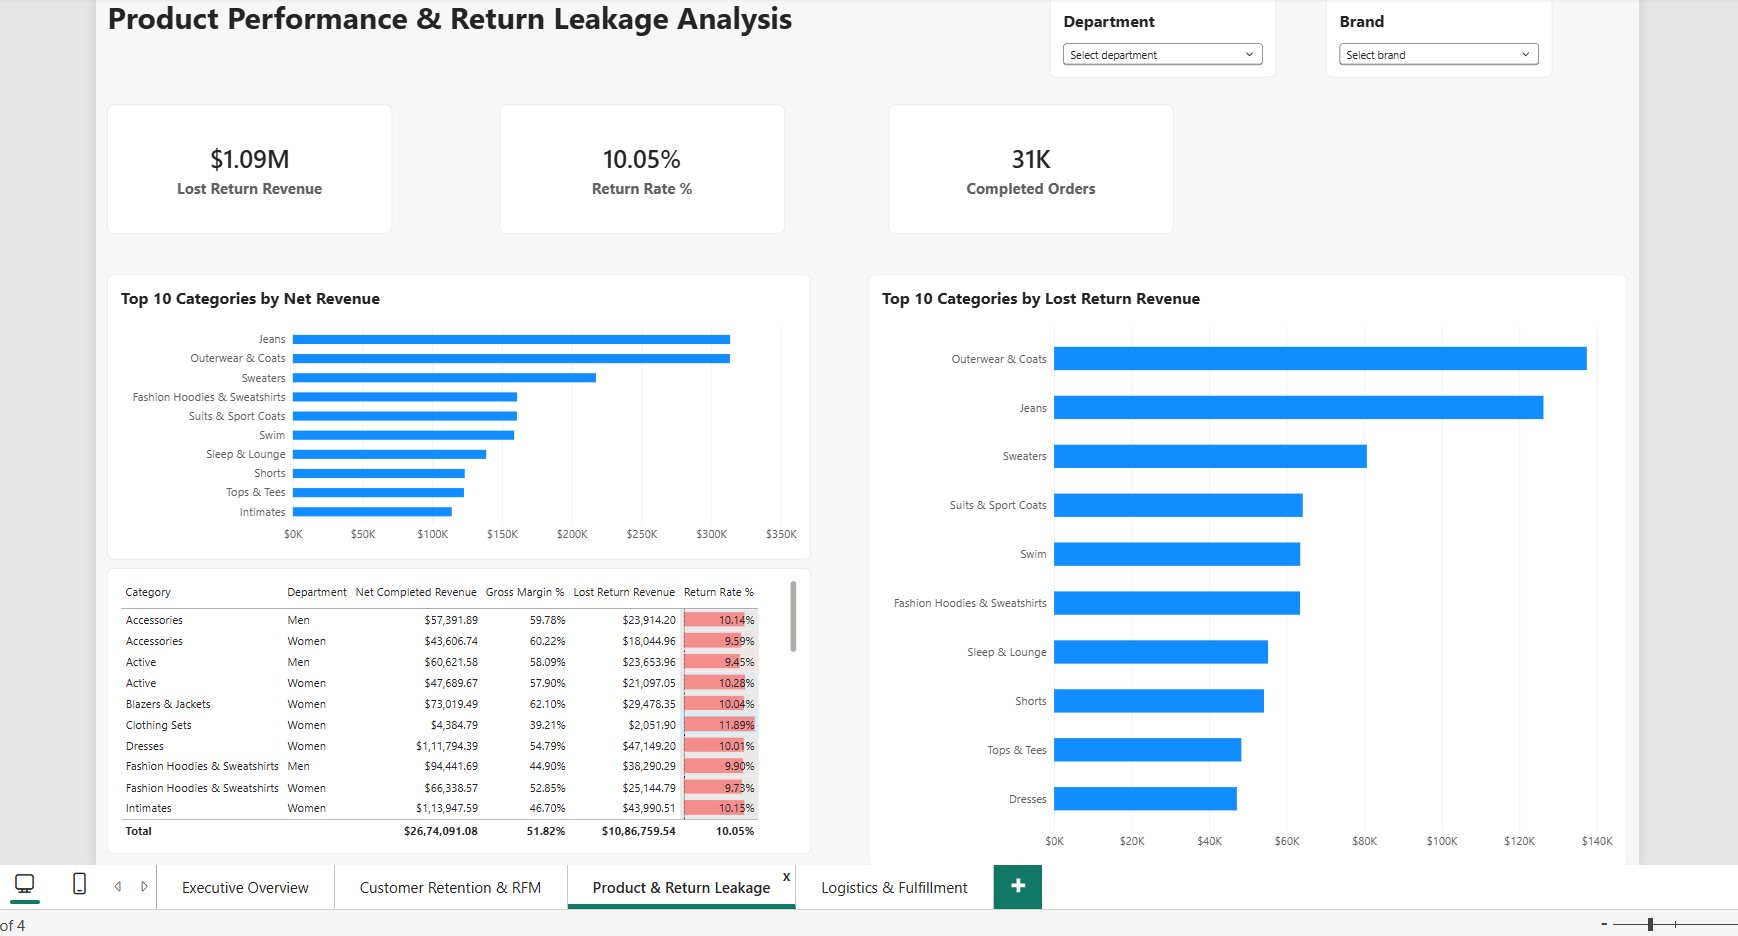

What the dashboard file says about the page in this screenshot:
{"tool":"powerbi","page":{"name":"Product & Return Leakage","canvas":[1920,1080],"ordinal":2},"visuals":[{"type":"textbox","box":[13.4,0,875.9,76.7],"z":0},{"type":"listSlicer","title":"Department","fields":{"Values":["vw_dim_products.department"]},"box":[1186.3,0,281.7,99.7],"z":1000},{"type":"listSlicer","title":"Brand","fields":{"Values":["vw_dim_products.brand"]},"box":[1529.4,0,281.7,99.7],"z":2000},{"type":"card","fields":{"Values":["_Measures.Lost Return Revenue"]},"box":[13.4,134.2,354.6,161],"z":3000},{"type":"card","fields":{"Values":["_Measures.Return Rate %"]},"box":[502.1,134.2,354.6,161],"z":4000},{"type":"card","fields":{"Values":["_Measures.Completed Orders"]},"box":[985.5,134.3,354.6,161],"z":5000},{"type":"clusteredBarChart","title":"Top 10 Categories by Net Revenue","fields":{"Category":["vw_dim_products.category"],"Y":["_Measures.Net Completed Revenue"]},"box":[13.8,345.4,875,354.6],"z":6000},{"type":"clusteredBarChart","title":"Top 10 Categories by Lost Return Revenue","fields":{"Category":["vw_dim_products.category"],"Y":["_Measures.Lost Return Revenue"]},"box":[960.2,345,942.9,736],"z":7000},{"type":"tableEx","fields":{"Values":["vw_dim_products.category","vw_dim_products.department","_Measures.Net Completed Revenue","_Measures.Gross Margin %","_Measures.Lost Return Revenue","_Measures.Return Rate %"]},"box":[14,710,875,355],"z":8000}]}

Visuals, with their boxes on the page's 1920x1080 design canvas (x1, y1, x2, y2). These are canvas units, not pixel positions in the 1738x936 screenshot, which may show the page scaled, cropped or inside an application window:
textbox: (x1=13, y1=0, x2=889, y2=77)
"Department" listSlicer: (x1=1186, y1=0, x2=1468, y2=100)
"Brand" listSlicer: (x1=1529, y1=0, x2=1811, y2=100)
card - _Measures.Lost Return Revenue: (x1=13, y1=134, x2=368, y2=295)
card - _Measures.Return Rate %: (x1=502, y1=134, x2=857, y2=295)
card - _Measures.Completed Orders: (x1=986, y1=134, x2=1340, y2=295)
"Top 10 Categories by Net Revenue" clusteredBarChart: (x1=14, y1=345, x2=889, y2=700)
"Top 10 Categories by Lost Return Revenue" clusteredBarChart: (x1=960, y1=345, x2=1903, y2=1081)
tableEx - vw_dim_products.category x vw_dim_products.department: (x1=14, y1=710, x2=889, y2=1065)
